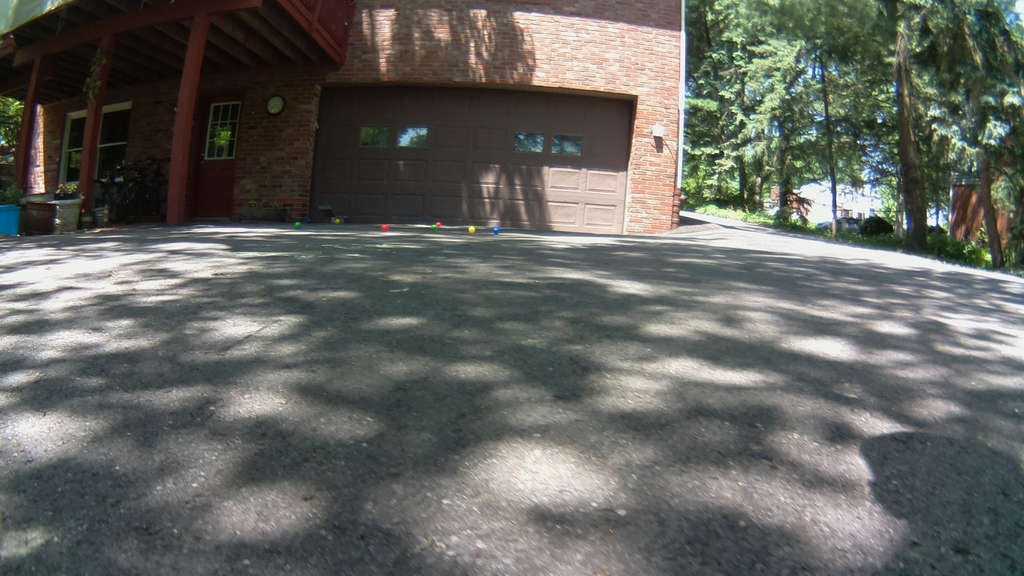ball: (294, 220, 301, 227)
